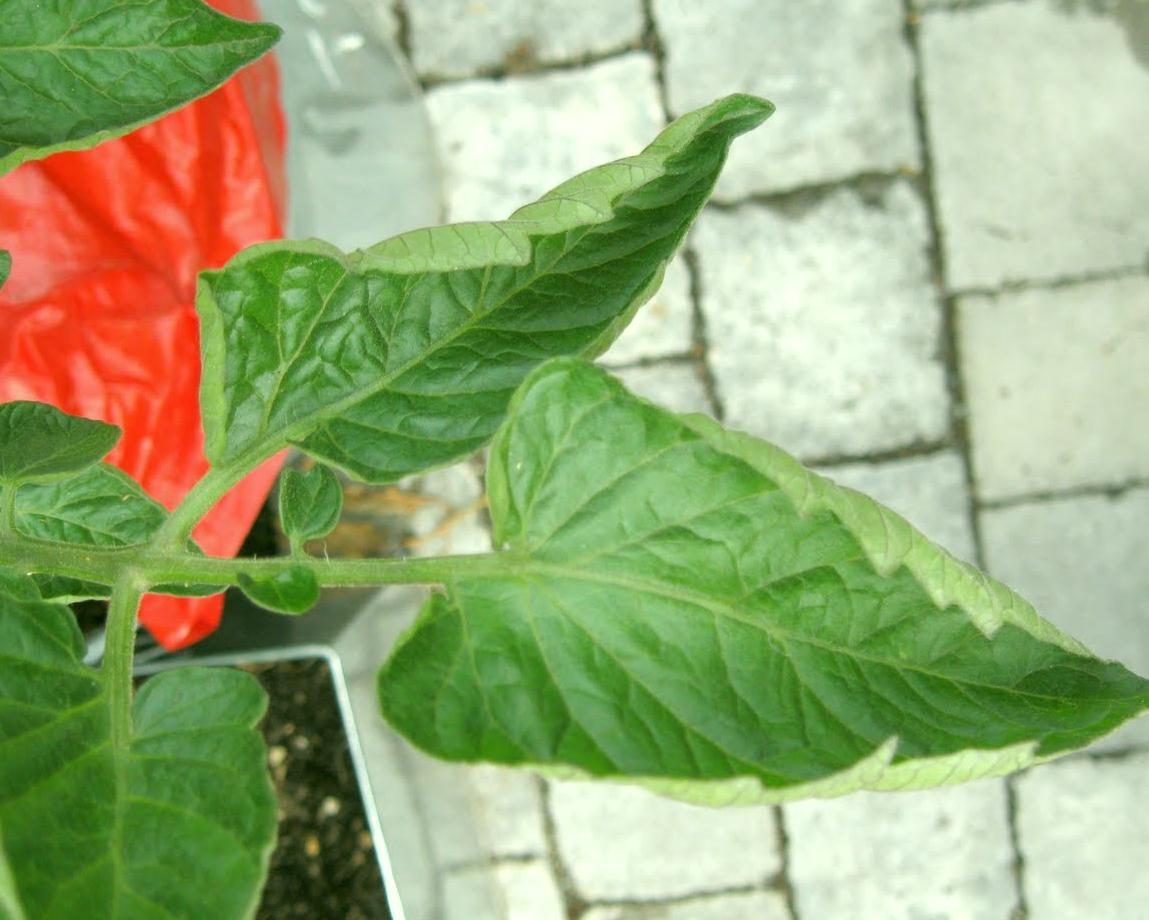Tomato leaf: (375, 357, 1149, 793), (175, 42, 781, 499), (0, 580, 286, 920)
